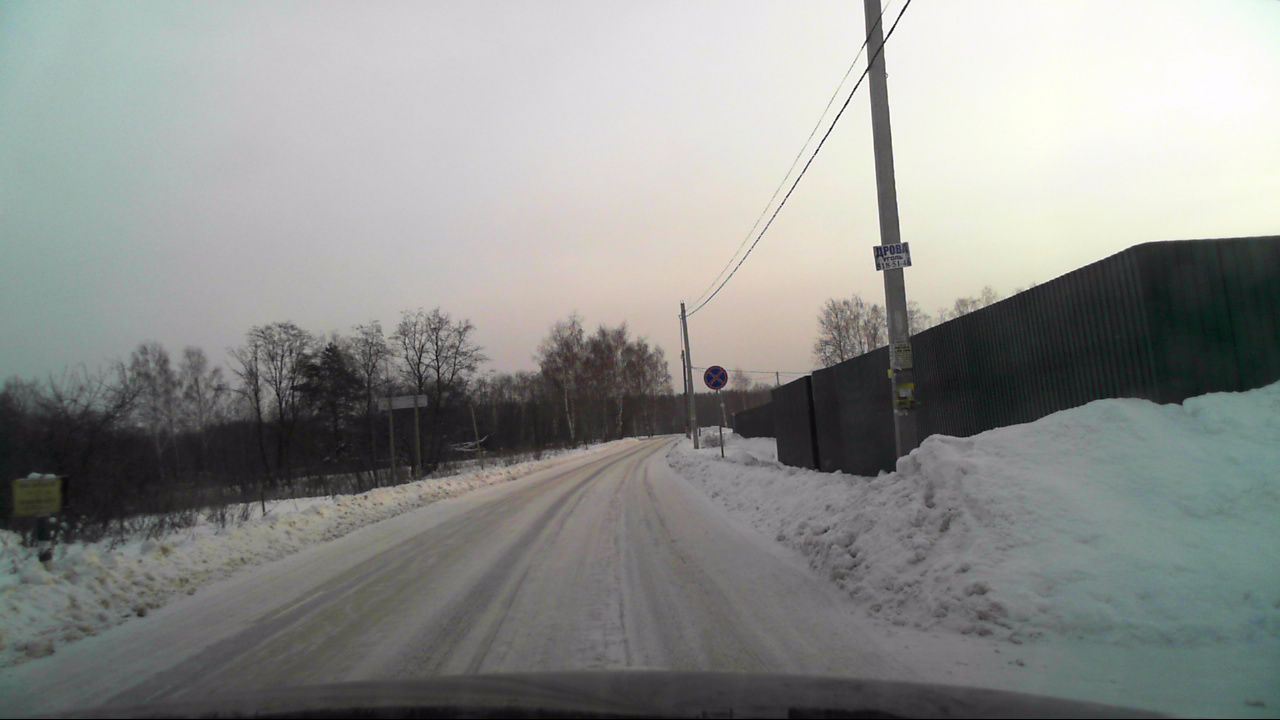No Parking: (703, 365, 727, 389)
